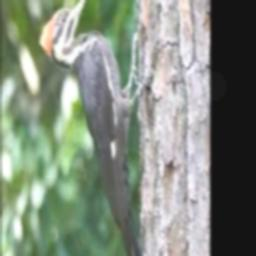Woodpecker: (38, 0, 145, 256)
